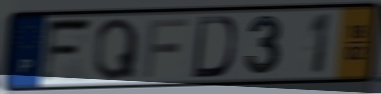1: (304, 11, 334, 77)
3: (243, 13, 284, 78)
D: (190, 14, 238, 80)
F: (39, 16, 95, 86), (141, 17, 191, 80)
Q: (92, 16, 141, 83)
